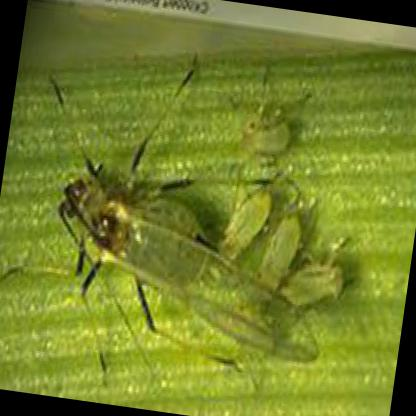schizaphis graminum: (218, 189, 272, 264), (259, 216, 301, 289)
